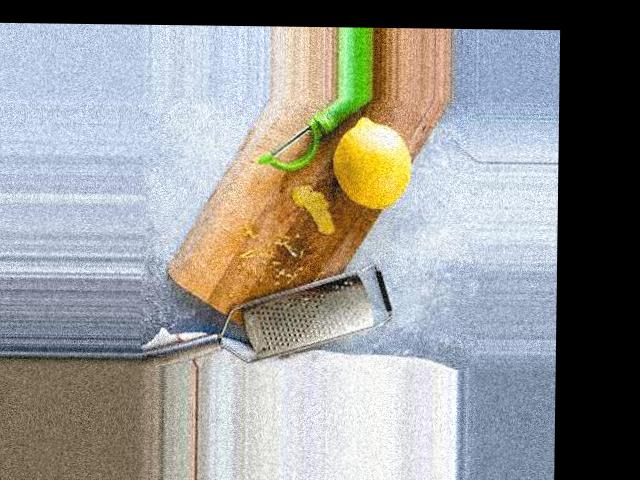lemon: (323, 107, 416, 225)
